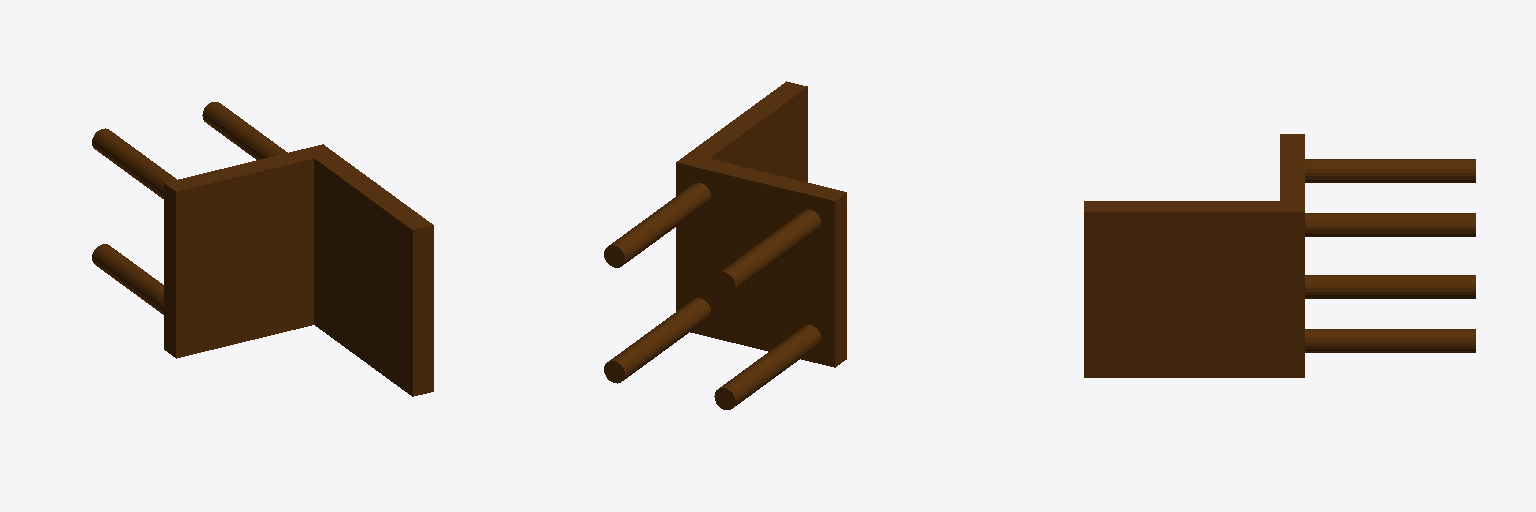
Rendered from tinker_13.obj.
3 views of the same model, side by side, from view 1: azimuth 30°, elevation 25°; view 2: azimuth 150°, elevation 25°; view 3: azimuth 270°, elevation 25° (orthographic).
Parts seen in each view (by area): view 1: obj_0; view 2: obj_0; view 3: obj_0.
Part boxes in pixels (left/top/right/bottom): obj_0: left=92, top=102, right=433, bottom=396; obj_0: left=604, top=81, right=846, bottom=409; obj_0: left=1084, top=134, right=1475, bottom=377.
Bounding box in the file's own units: 15 × 15 × 32.05.